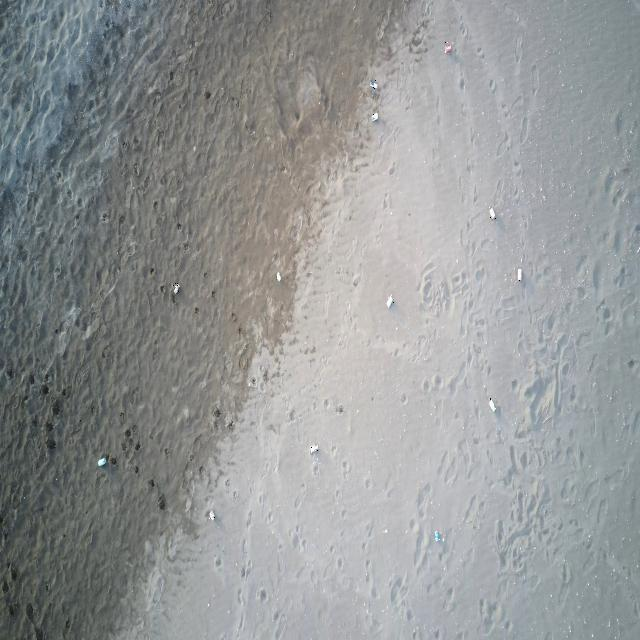tin-and-aluminum-cans: (97, 456, 107, 469), (488, 206, 496, 220), (309, 443, 319, 453), (387, 294, 394, 308), (489, 398, 496, 412), (444, 42, 452, 54), (517, 267, 523, 282), (173, 283, 180, 295), (370, 80, 378, 90), (371, 112, 379, 122), (434, 529, 440, 542), (209, 511, 216, 522), (278, 274, 284, 285)
